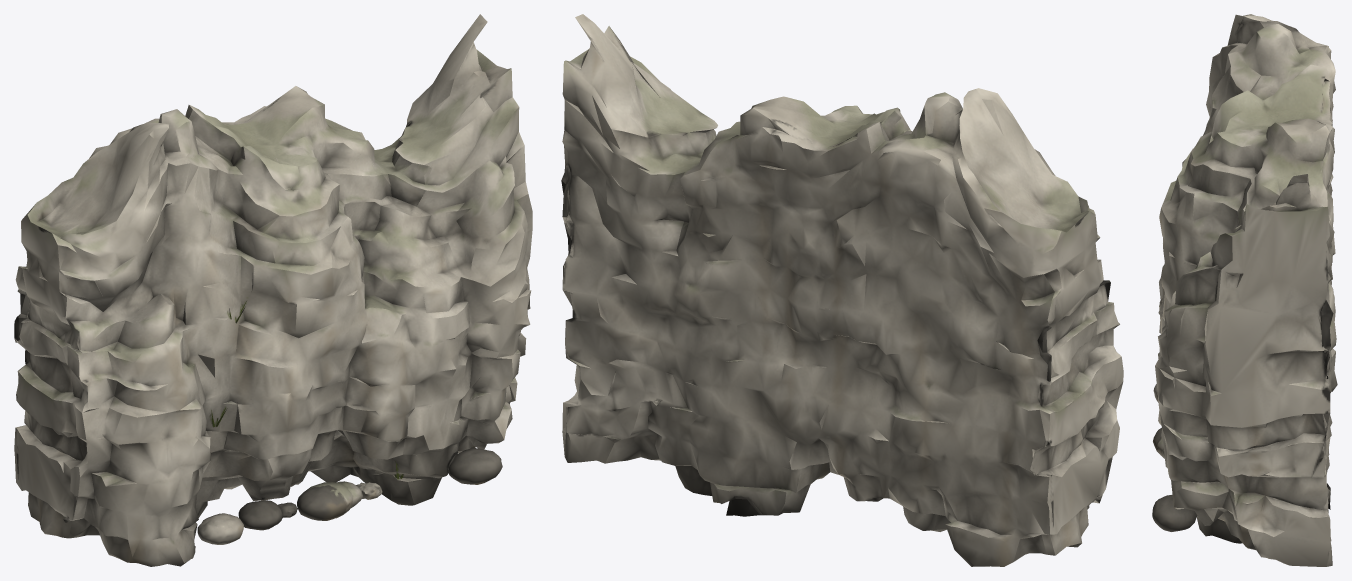
The model's file is costa_penhasco_a.glb.
3 views of the same model, side by side, from view 1: azimuth 30°, elevation 25°; view 2: azimuth 150°, elevation 25°; view 3: azimuth 270°, elevation 25° (orthographic). The views are drawn at different scales.
Parts seen in each view (by area): view 1: costa_penhasco_a; view 2: costa_penhasco_a; view 3: costa_penhasco_a.
Part boxes in pixels (box(x1,y1,x2,y2)): costa_penhasco_a: box(14, 14, 532, 566); costa_penhasco_a: box(561, 14, 1123, 566); costa_penhasco_a: box(1152, 14, 1337, 566).
Size of the model in its own units: 10.83 by 9.59 by 3.92.
Materials: 1 (1 with a texture image).
